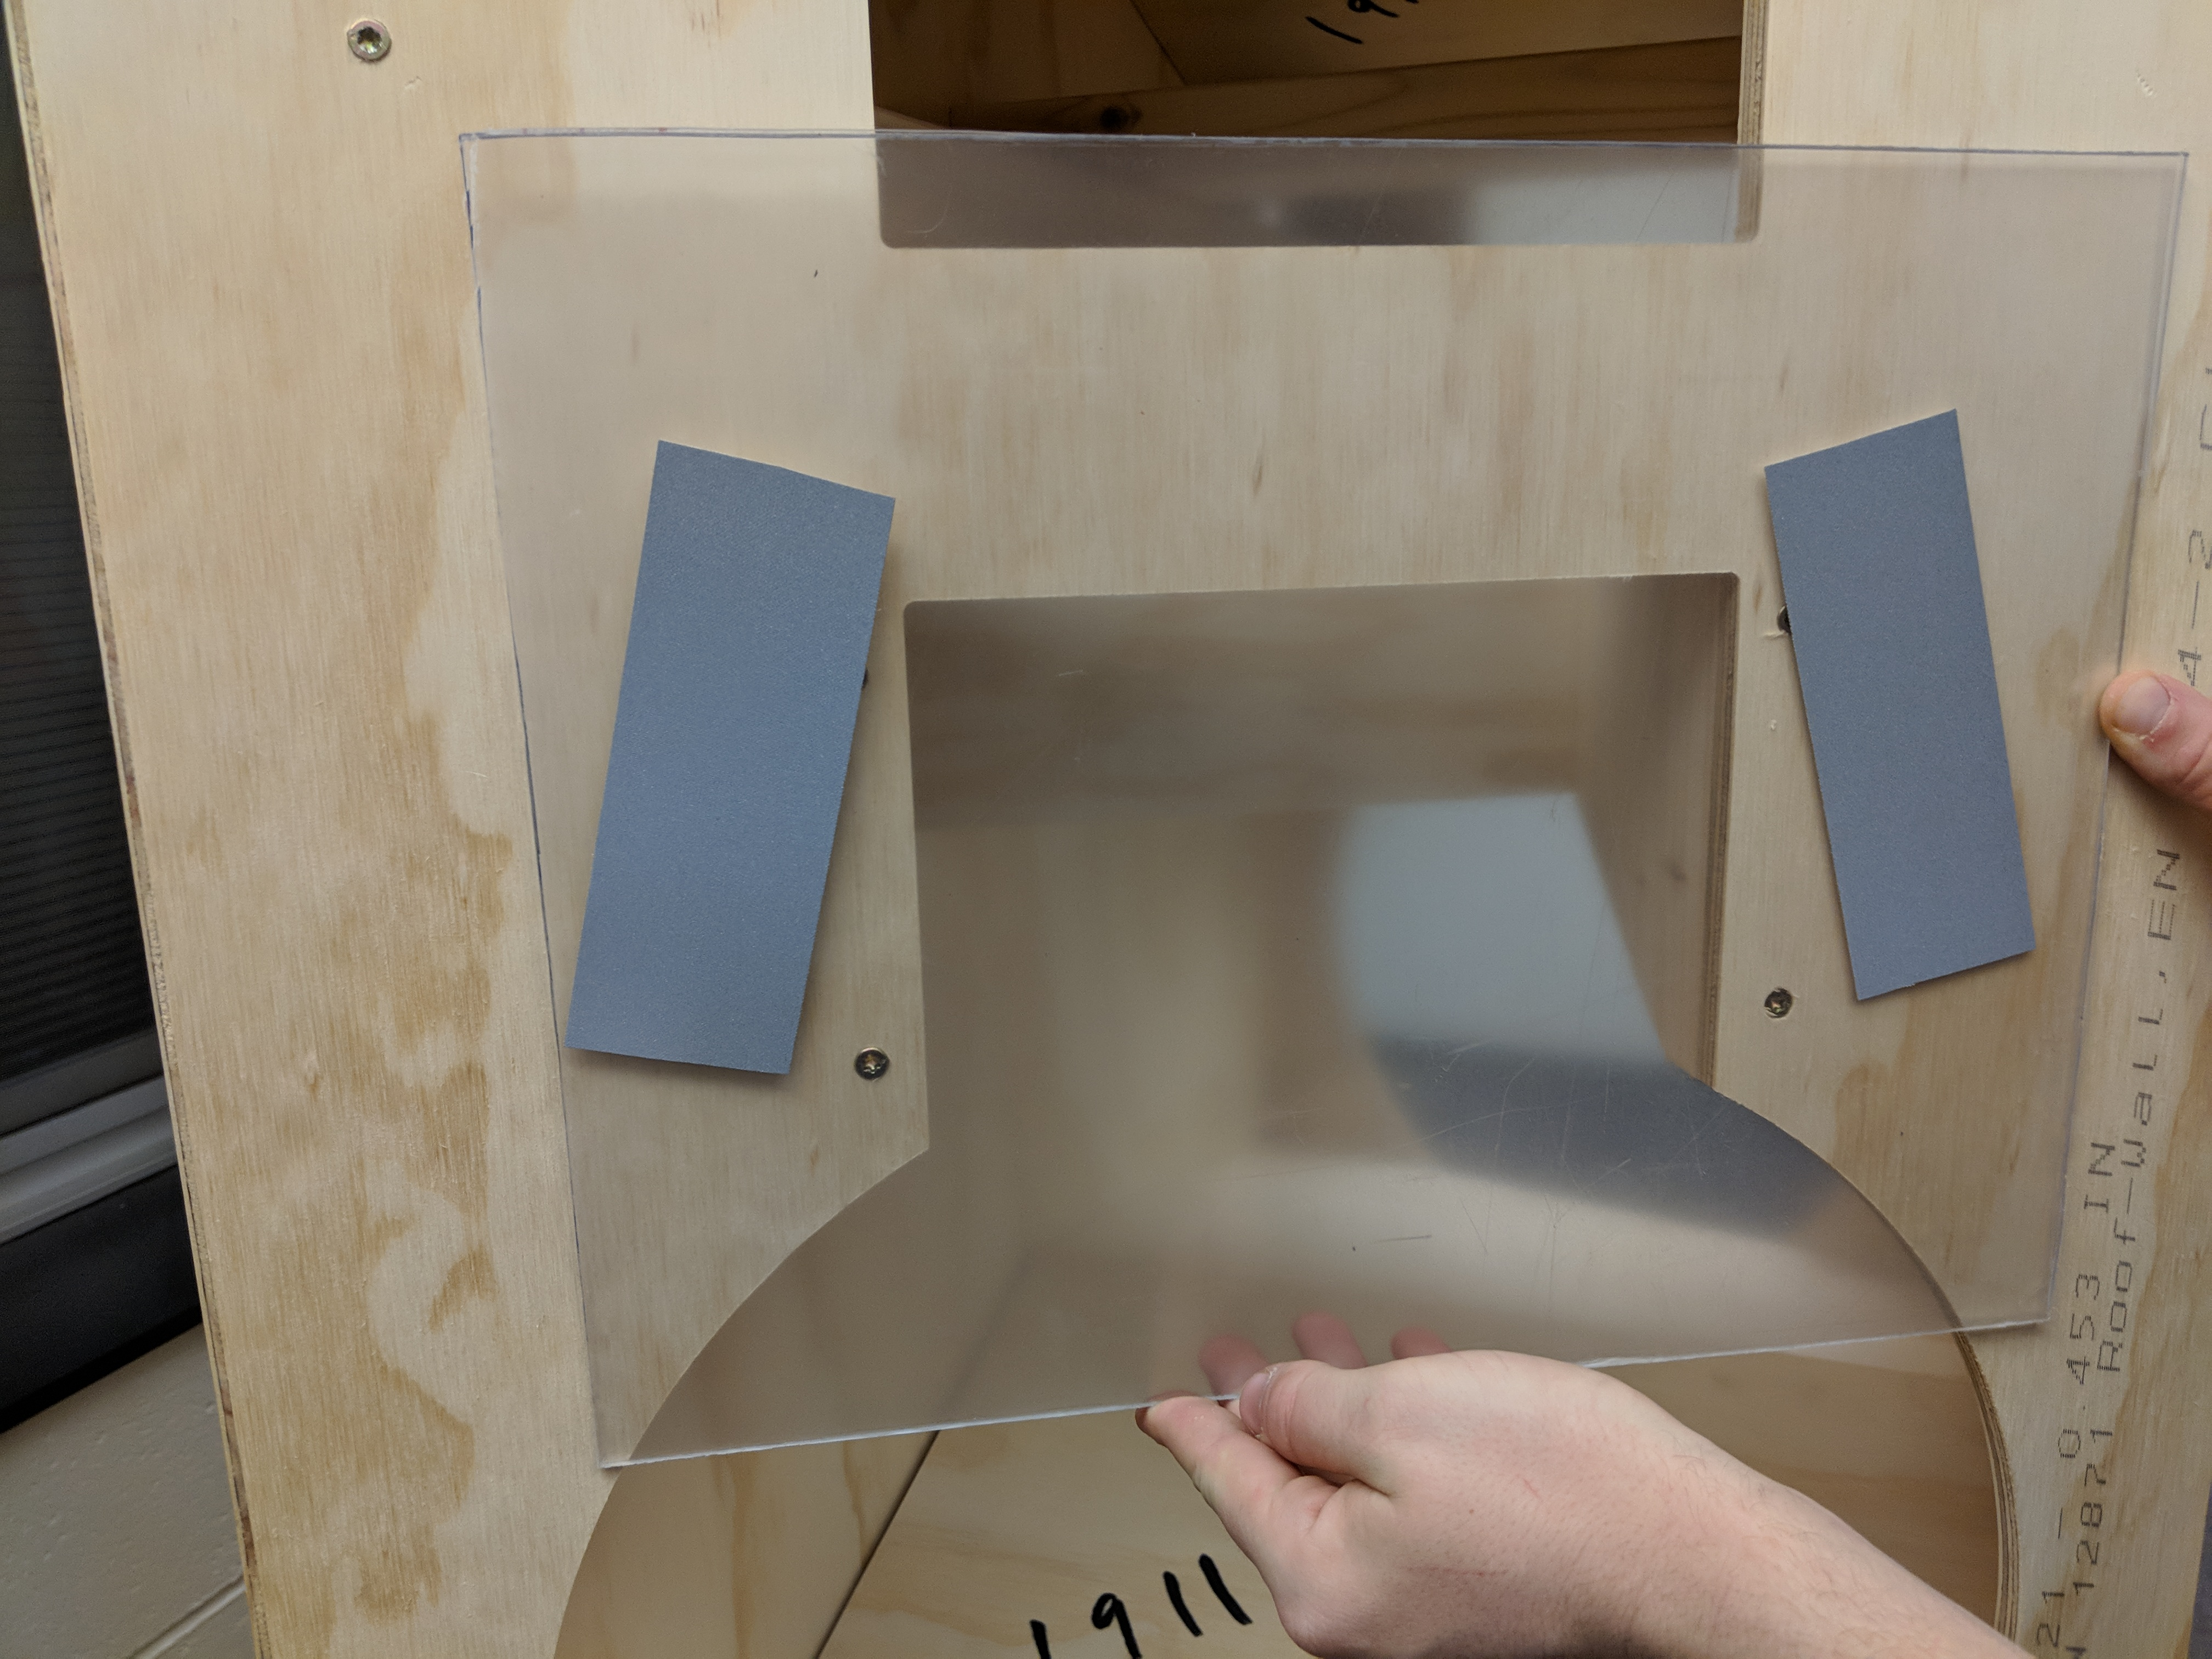vision_target: (549, 418, 2057, 1105)
